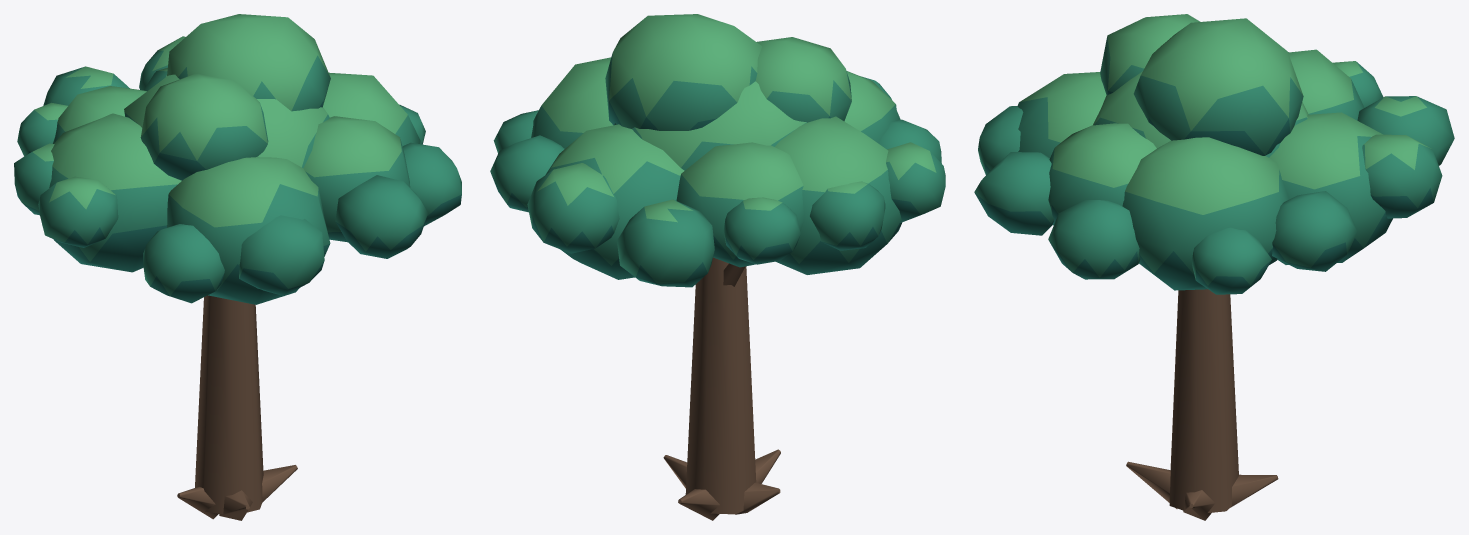
Rendered from tree_c.glb.
3 views of the same model, side by side, from view 1: azimuth 30°, elevation 25°; view 2: azimuth 150°, elevation 25°; view 3: azimuth 270°, elevation 25° (orthographic). The views are drawn at different scales.
Visible parts, largest first — view 1: body_nl, body; view 2: body_nl, body; view 3: body_nl, body.
Part boxes in pixels (x1,y1,x2,y2): body_nl: [14, 14, 461, 304]; body: [177, 295, 297, 520]; body_nl: [490, 14, 945, 287]; body: [663, 257, 780, 520]; body_nl: [974, 14, 1454, 294]; body: [1126, 289, 1278, 520].
Bounding box in the file's own units: 3.87 × 4.41 × 3.88.
